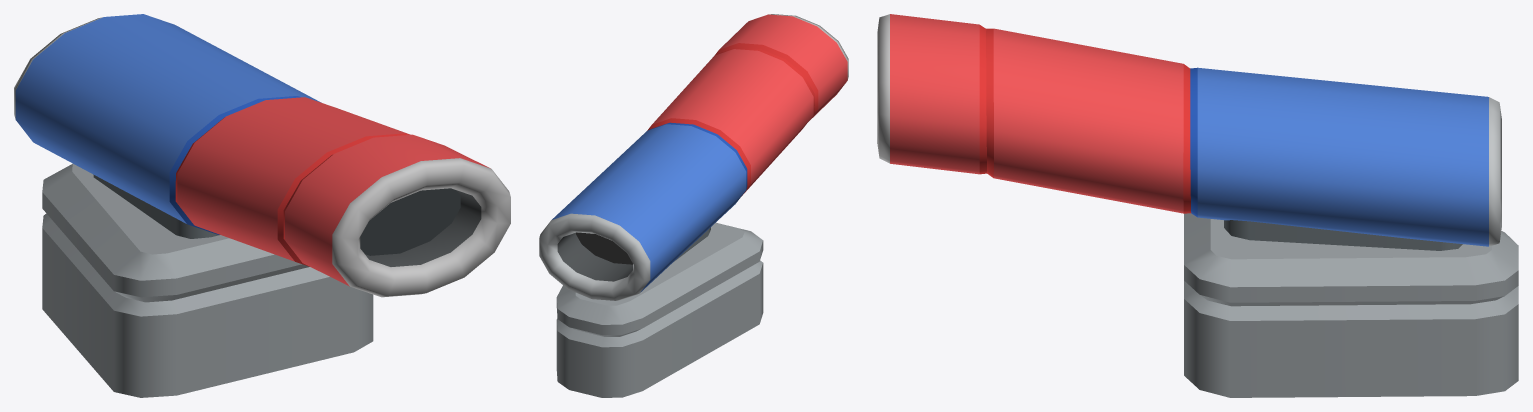
Rendered from Car_10_Engine.fbx.
3 renders of one model, left to right at view 1: azimuth 30°, elevation 25°; view 2: azimuth 150°, elevation 25°; view 3: azimuth 270°, elevation 25°, orthographic. The views are drawn at different scales.
Visible parts, largest first — view 1: Car_10_Engine; view 2: Car_10_Engine; view 3: Car_10_Engine.
Boxes of the visible parts, bbox=[...] form: Car_10_Engine: bbox=[14, 14, 510, 397]; Car_10_Engine: bbox=[539, 14, 848, 397]; Car_10_Engine: bbox=[877, 14, 1518, 397].
Size of the model in its own units: 44.66 by 103 by 60.91.
